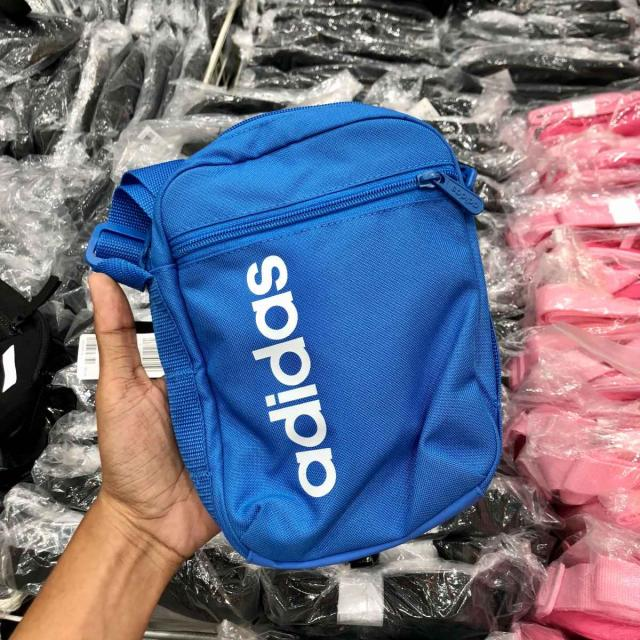Handbag: (92, 75, 508, 558)
